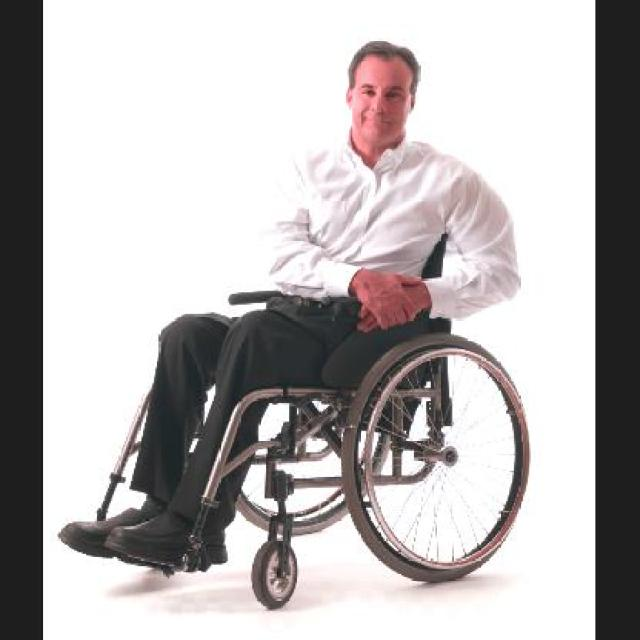wheelchairs: (88, 233, 534, 609)
